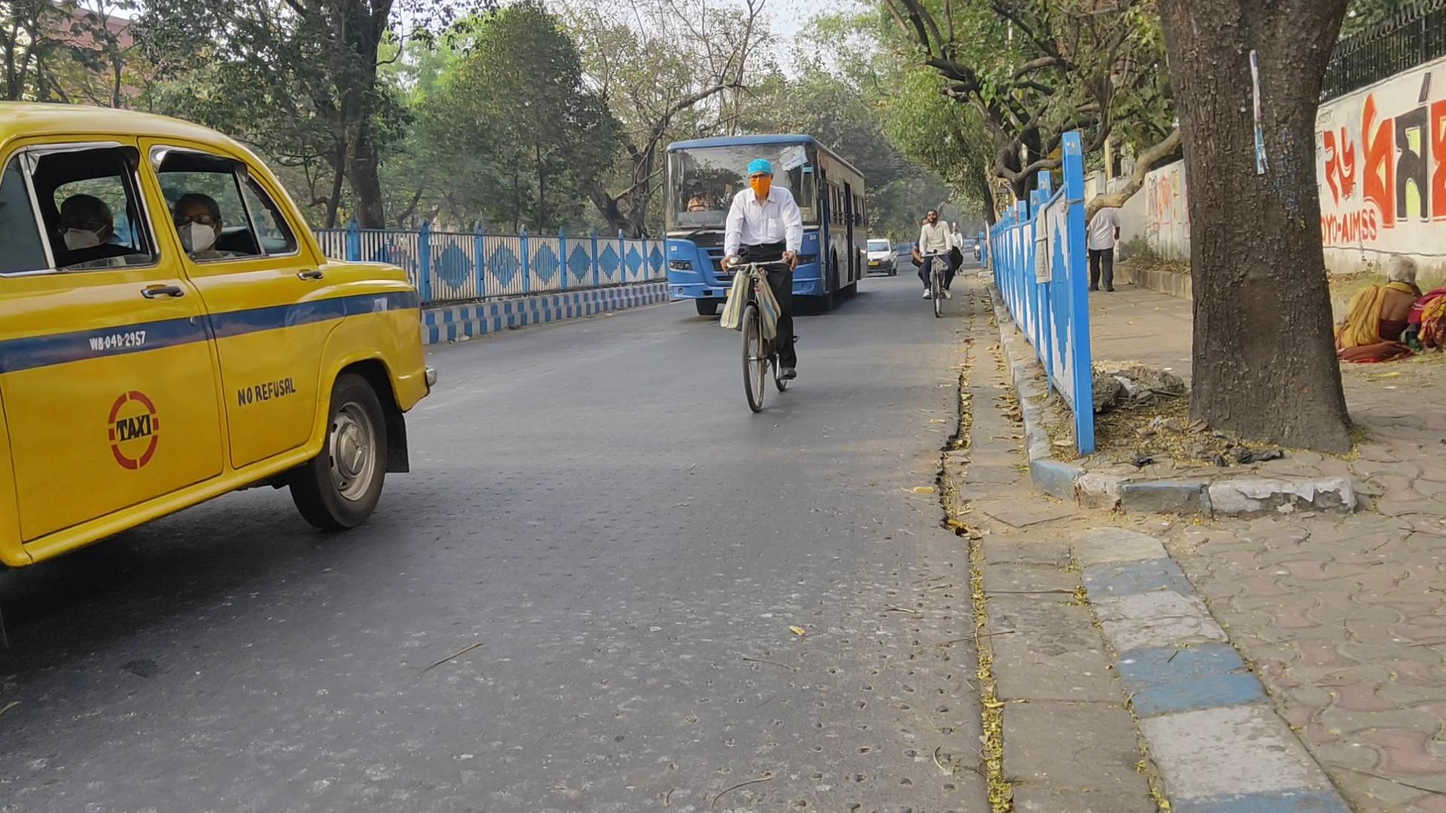Bus: (665, 134, 866, 317)
bike: (723, 160, 798, 413), (920, 210, 958, 315)
car: (1, 99, 436, 648), (865, 238, 899, 277)
